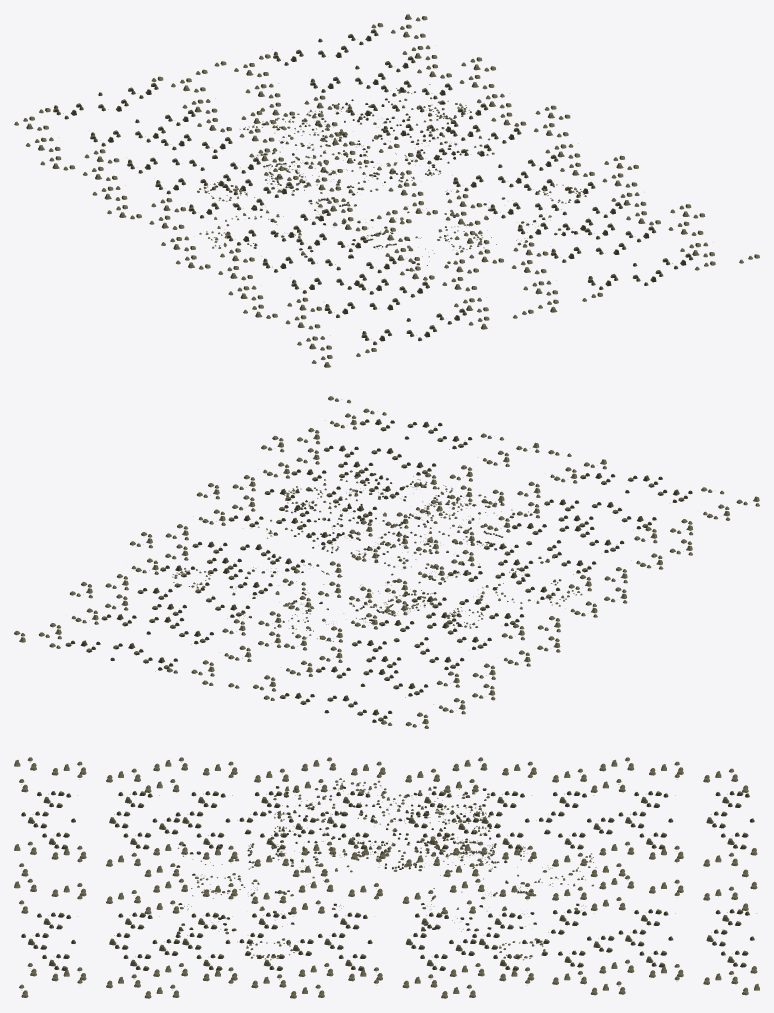
Rendered from Leve1_Room7_Stones.fbx.
The picture shows the model from 3 angles, top to bottom: view 1: azimuth 30°, elevation 25°; view 2: azimuth 150°, elevation 25°; view 3: azimuth 270°, elevation 25°; orthographic projection. The views are drawn at different scales.
Visible parts, largest first — view 1: SmallStones; view 2: SmallStones; view 3: SmallStones.
Part boxes in pixels (x1=…): SmallStones: x1=14, y1=14, x2=759, y2=367; SmallStones: x1=14, y1=396, x2=759, y2=728; SmallStones: x1=14, y1=757, x2=759, y2=998.
Bounding box in the file's own units: 3611 × 409 × 4751.
